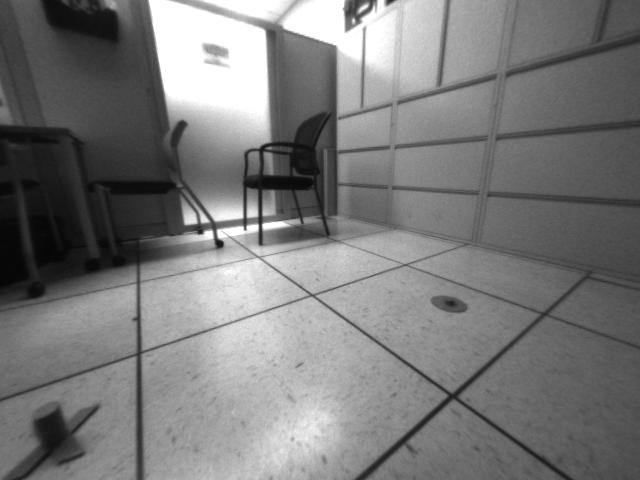X: (1, 400, 103, 480)
